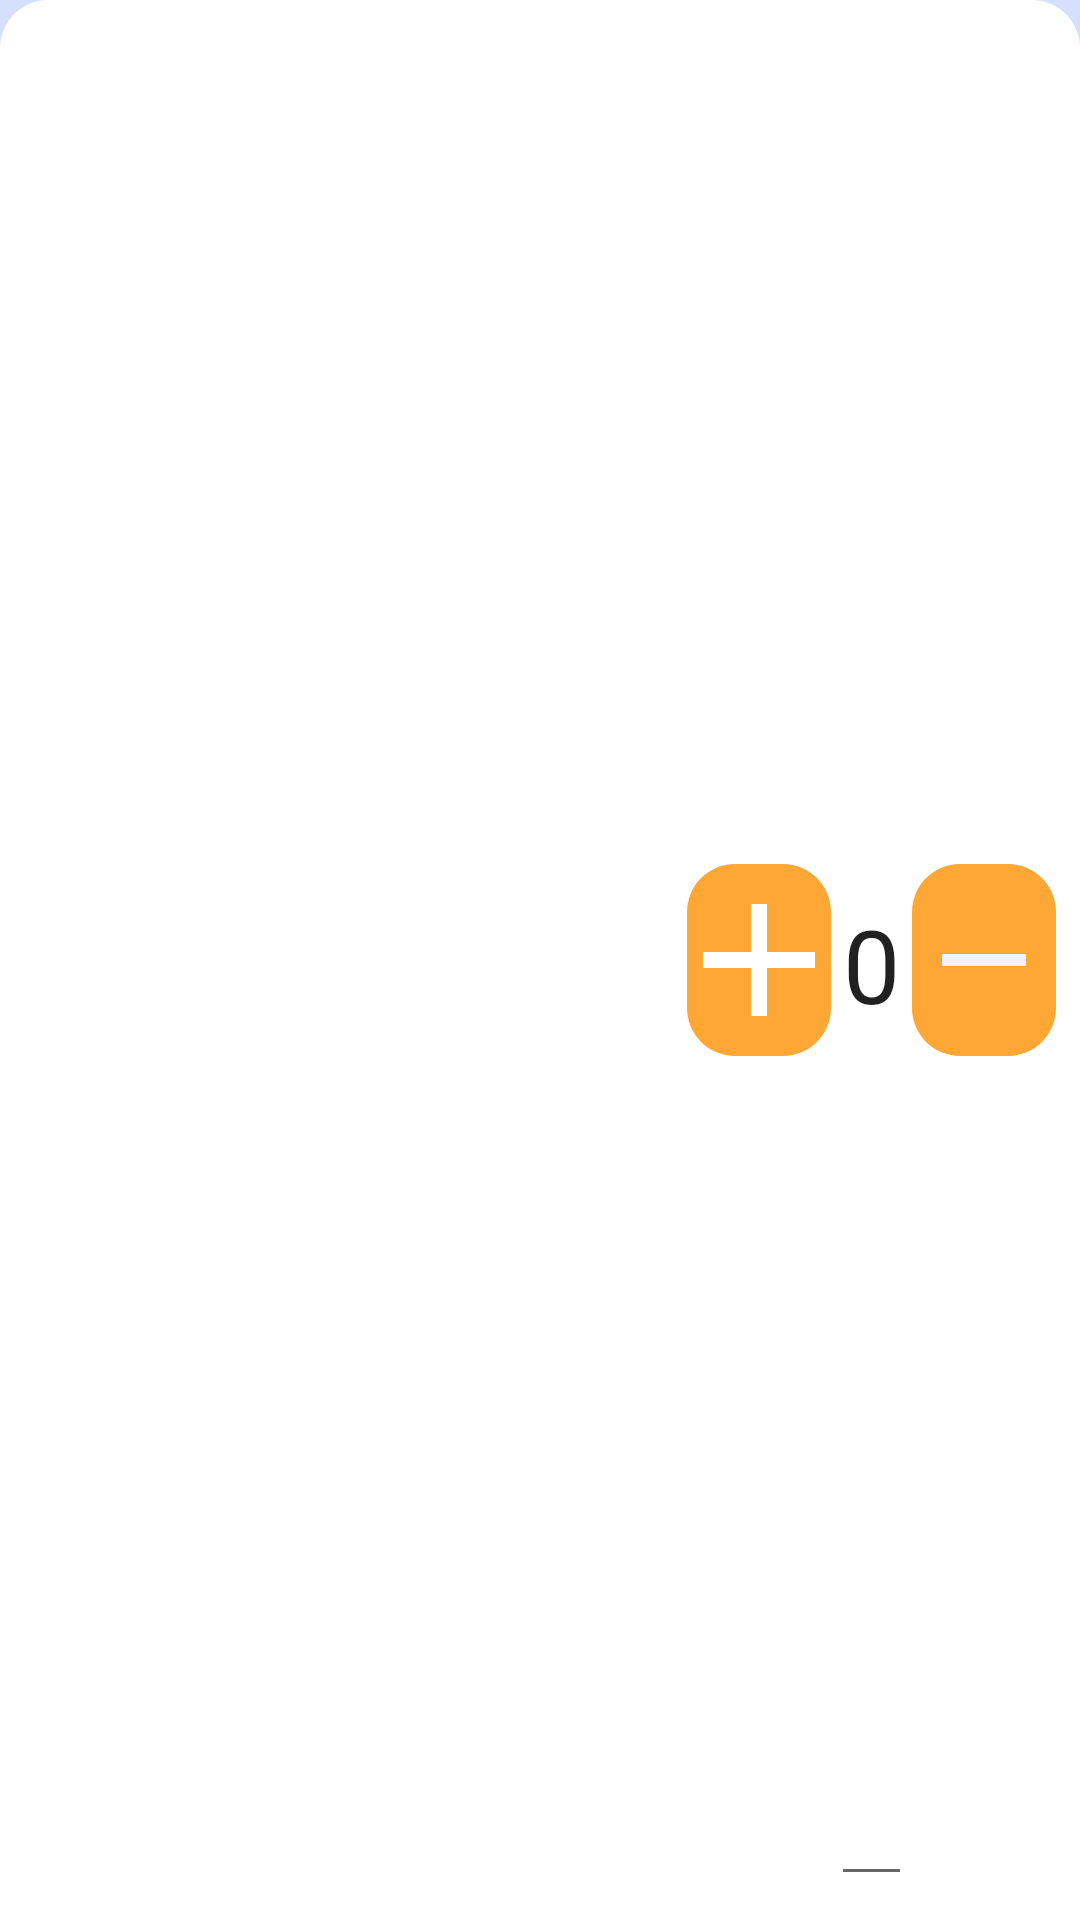

Icon bounding boxes for this 1080*1920 phone screenshot, format (x1, y1, x2, y2):
add: (687, 864, 831, 1056)
remove: (912, 864, 1056, 1056)
